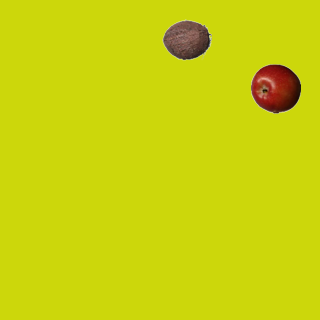Apple Braeburn: (250, 63, 300, 113)
Cocos: (161, 14, 211, 64)
